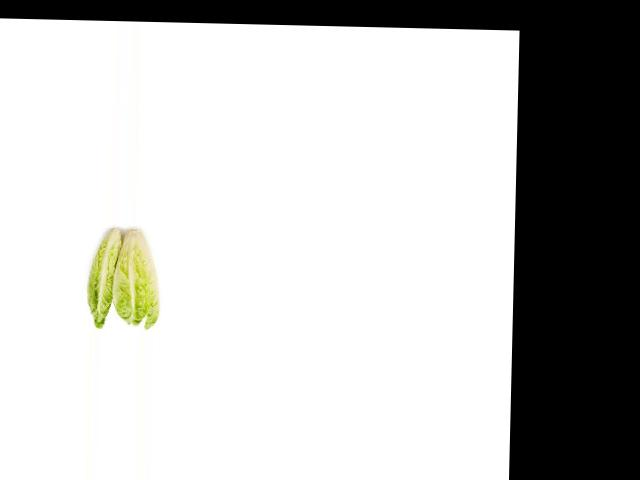lettuce: (76, 221, 124, 330)
